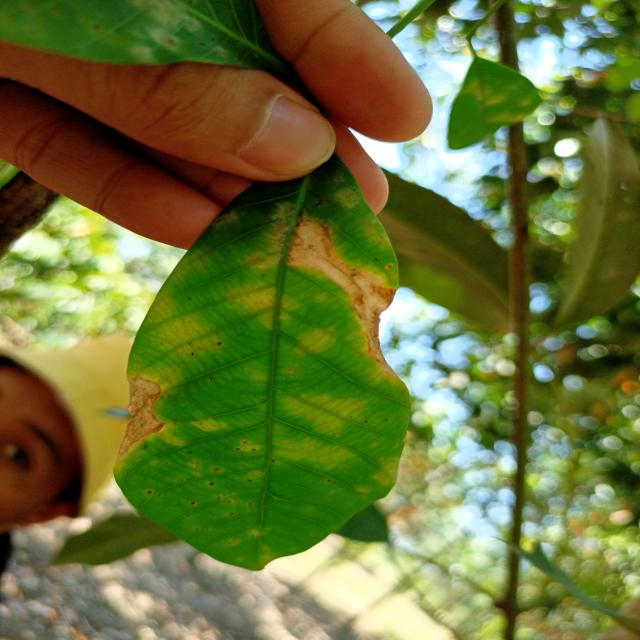Leaf-Blight: (291, 220, 398, 380), (119, 377, 165, 461)
